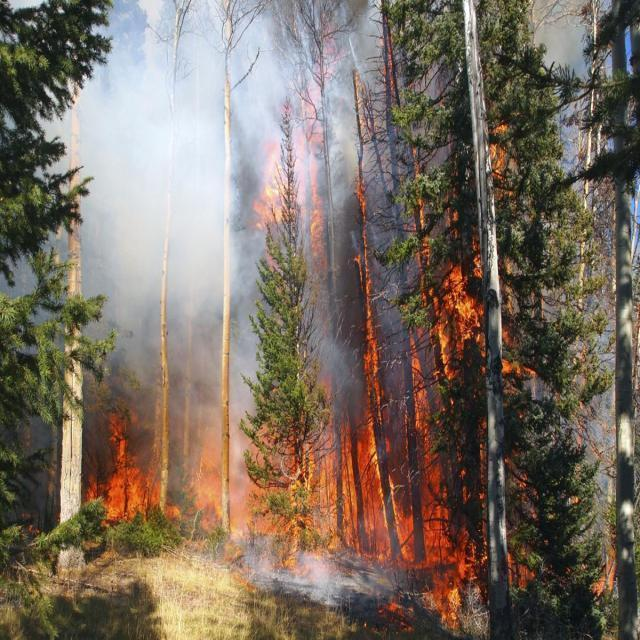Fire: (419, 222, 527, 593), (151, 394, 425, 523), (262, 108, 354, 258), (89, 438, 164, 521), (487, 87, 525, 176), (593, 550, 624, 602), (425, 586, 460, 627), (515, 564, 535, 588)
Smoke: (75, 16, 233, 329)
